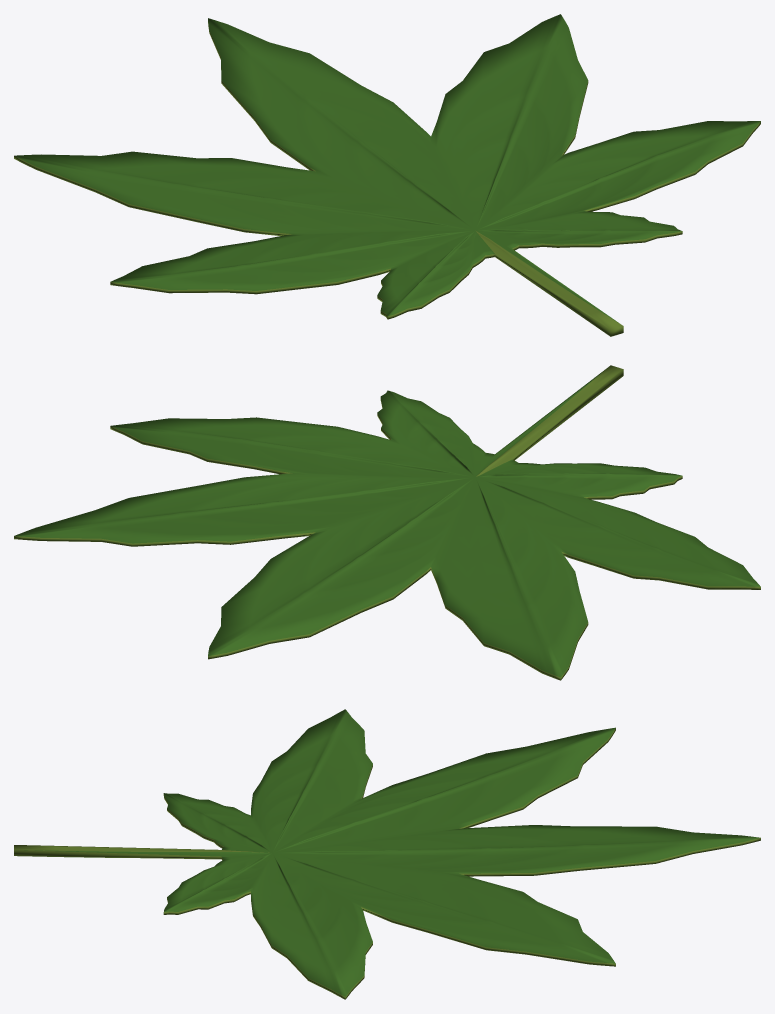
The picture shows the model from 3 angles, top to bottom: view 1: azimuth 30°, elevation 25°; view 2: azimuth 150°, elevation 25°; view 3: azimuth 270°, elevation 25°; orthographic projection. The views are drawn at different scales.
Parts seen in each view (by area): view 1: NEW330_Maple_leaf_LOD1; view 2: NEW330_Maple_leaf_LOD1; view 3: NEW330_Maple_leaf_LOD1.
Boxes of the visible parts, left/top/right/bottom form: NEW330_Maple_leaf_LOD1: left=14, top=14, right=760, bottom=336; NEW330_Maple_leaf_LOD1: left=14, top=365, right=760, bottom=680; NEW330_Maple_leaf_LOD1: left=14, top=709, right=760, bottom=999.
Bounding box in the file's own units: 0.1193 × 0.00476 × 0.13.
